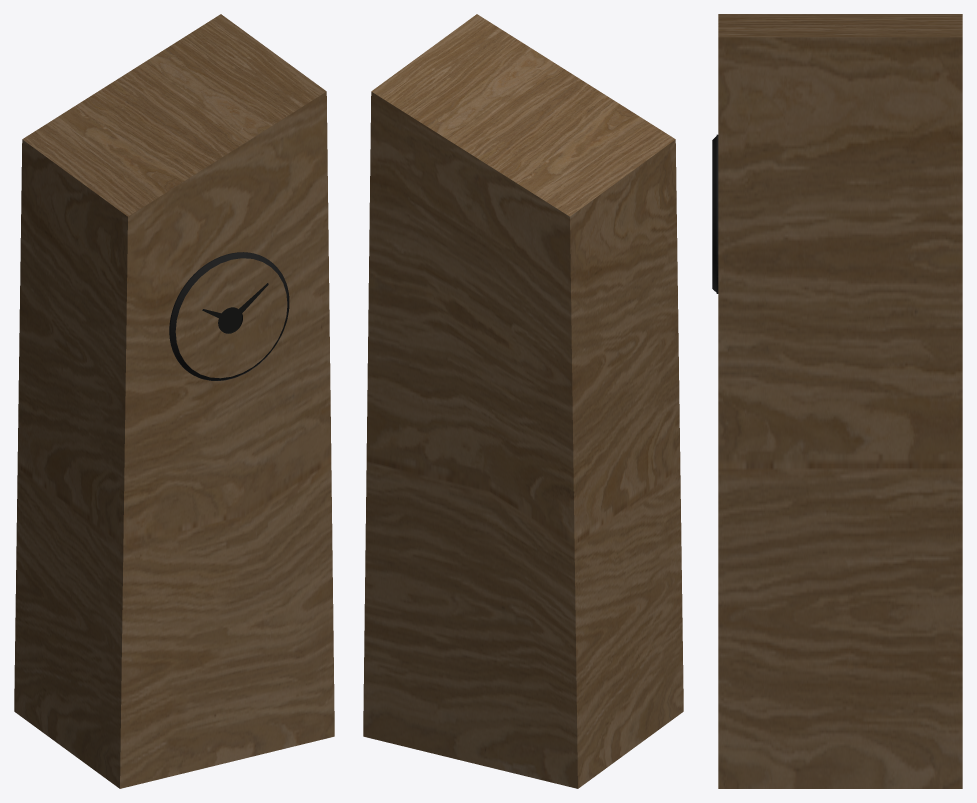
The model's file is wallclock.glb.
The picture shows the model from 3 angles, left to right: view 1: azimuth 30°, elevation 25°; view 2: azimuth 150°, elevation 25°; view 3: azimuth 270°, elevation 25°; orthographic projection. The views are drawn at different scales.
Visible parts, largest first — view 1: shelf.001, Circle.002; view 2: shelf.001; view 3: shelf.001, Circle.002.
Boxes of the visible parts, x1,y1,x2,y2 form: shelf.001: (14,14,334,788); Circle.002: (169,252,289,380); shelf.001: (363,14,683,788); shelf.001: (718,14,962,788); Circle.002: (712,134,718,293).
Size of the model in its own units: 30.81 by 88.68 by 26.91.
3 materials, 1 textured.
